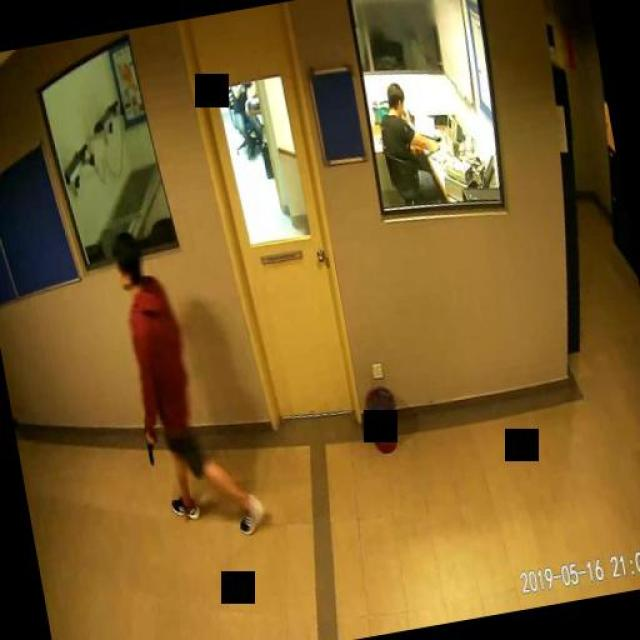gun: (141, 424, 159, 465)
